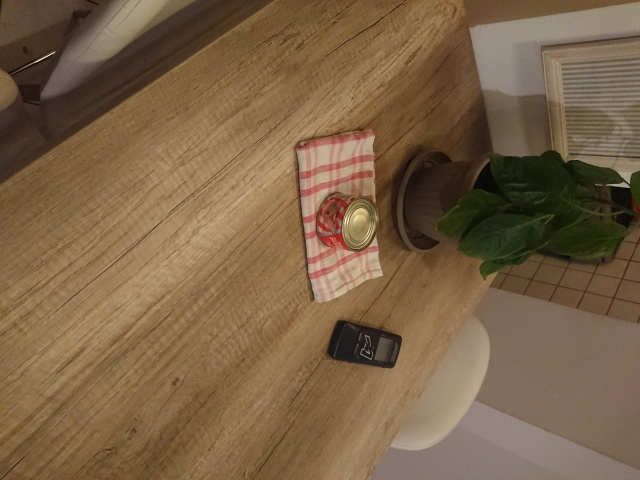Podravka Luncheon Meat 150g: (314, 189, 381, 254)
